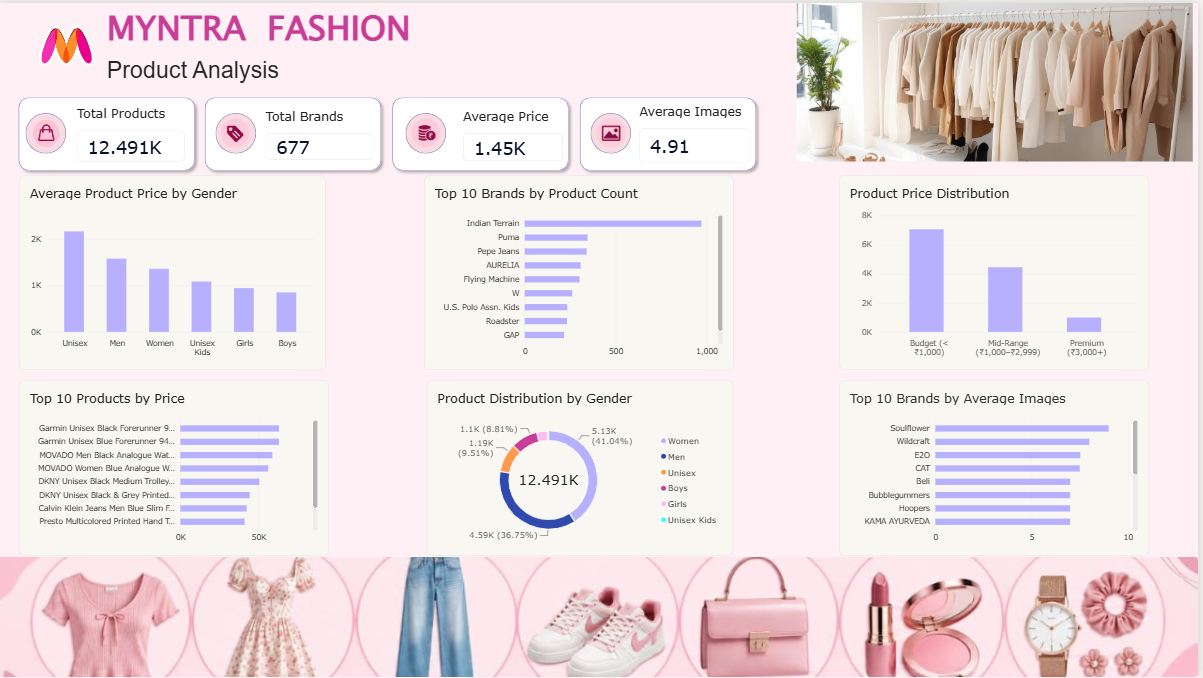

What the dashboard file says about the page in this screenshot:
{"tool":"powerbi","page":{"name":"Fashion Analysis","canvas":[1920,1080],"ordinal":1},"visuals":[{"type":"donutChart","title":"Product Distribution by Gender","fields":{"Category":["myntra_products_catalog.Gender"],"Y":["CountNonNull(myntra_products_catalog.ProductID)"]},"box":[730,627.5,490,280],"z":0},{"type":"clusteredBarChart","title":"Top 10 Brands by Product Count","fields":{"Category":["myntra_products_catalog.ProductBrand"],"Y":["CountNonNull(myntra_products_catalog.ProductID)"]},"box":[725,295,495,310],"z":1000},{"type":"clusteredColumnChart","title":"Average Product Price by Gender","fields":{"Category":["myntra_products_catalog.Gender"],"Y":["Avg(myntra_products_catalog.Price (INR))"]},"box":[35,432.5,490,310],"z":2000},{"type":"clusteredBarChart","title":"Top 10 Brands by Average Images","fields":{"Category":["myntra_products_catalog.ProductBrand"],"Y":["Avg(myntra_products_catalog.NumImages)"]},"box":[1347.5,627.5,495,280],"z":3000},{"type":"textbox","box":[173.3,0,513.3,120],"z":4000},{"type":"textbox","box":[173.3,86.7,513.3,76.7],"z":5000},{"type":"image","box":[1270,0,650,253.3],"z":6000},{"type":"shape","box":[24,142,300,135],"z":7000},{"type":"shape","box":[322.9,141.4,300,135],"z":8000},{"type":"shape","box":[622.9,141.4,300,135],"z":9000},{"type":"shape","box":[922.9,141.4,300,135],"z":10000},{"type":"shape","box":[44.3,175.7,65,65],"z":11000},{"type":"shape","box":[347.1,175.7,65,65],"z":12000},{"type":"shape","box":[652.9,175.7,65,65],"z":13000},{"type":"shape","box":[948.6,175.7,65,65],"z":14000},{"type":"cardVisual","title":"Total Products","fields":{"Data":["myntra_products_catalog.Total Products Display"]},"box":[126.7,163.3,173.3,90],"z":15000},{"type":"cardVisual","title":"Total Brands","fields":{"Data":["Count(myntra_products_catalog.ProductBrand)"]},"box":[428.3,168.3,173.3,83.3],"z":16000},{"type":"cardVisual","title":"   Average Price","fields":{"Data":["myntra_products_catalog.Average Price Display"]},"box":[725,167.5,180,85],"z":17000},{"type":"cardVisual","title":"Average Images","fields":{"Data":["Avg(myntra_products_catalog.NumImages)"]},"box":[1026.7,160,178.3,95],"z":18000},{"type":"image","box":[33.3,181.7,86.7,51.7],"z":19000},{"type":"image","box":[336.7,181.7,86.7,51.7],"z":20000},{"type":"image","box":[641.7,181.7,86.7,51.7],"z":21000},{"type":"image","box":[938.3,181.7,86.7,51.7],"z":22000},{"type":"clusteredBarChart","title":"Top 10 Products by Price","fields":{"Category":["myntra_products_catalog.ProductName"],"Y":["Sum(myntra_products_catalog.Price (INR))"]},"box":[35,767.5,495,280],"z":23000},{"type":"clusteredColumnChart","title":"Product Price Distribution","fields":{"Category":["myntra_products_catalog.Price Range"],"Y":["CountNonNull(myntra_products_catalog.ProductID)"]},"box":[1347.5,295,495,310],"z":24000},{"type":"image","box":[0,0,223.3,136.7],"z":25000},{"type":"slicer","title":"Gender","fields":{"Values":["myntra_products_catalog.Gender"]},"box":[34,296,150,90],"z":26000},{"type":"slicer","title":"Brand","fields":{"Values":["myntra_products_catalog.ProductBrand"]},"box":[208,296,150,90],"z":27000},{"type":"slicer","title":"Color","fields":{"Values":["myntra_products_catalog.PrimaryColor"]},"box":[380,296,150,90],"z":28000},{"type":"slicer","title":"Price","fields":{"Values":["myntra_products_catalog.Price (INR)"]},"box":[546,296,150,90],"z":29000},{"type":"cardVisual","title":"Top 10 Brand Concentration(%)","fields":{"Data":["myntra_products_catalog.Top 10 Brand Concentration %"]},"box":[825,25,395,112.5],"z":30000},{"type":"cardVisual","title":"Most Common Price Segment(%)","fields":{"Data":["myntra_products_catalog.Most Common Price Segment %"]},"box":[558.3,933.7,430,121.9],"z":31000},{"type":"cardVisual","title":"Leading Price Segment","fields":{"Data":["myntra_products_catalog.Most Common Price Segment"]},"box":[1004.3,943.3,433.2,112.3],"z":32000},{"type":"cardVisual","title":"Brand with Highest Avg. Images","fields":{"Data":["myntra_products_catalog.Brand with Highest Average Images"]},"box":[1456.7,943.3,439.6,112.3],"z":33000}]}

Visuals, with their boxes in screenshot pixels (x1, y1, x2, y2), scaled from the page's 1920x1080 canvas onto the 1203x678 screenshot:
"Product Distribution by Gender" donutChart: <bbox>457, 394, 764, 570</bbox>
"Top 10 Brands by Product Count" clusteredBarChart: <bbox>454, 185, 764, 380</bbox>
"Average Product Price by Gender" clusteredColumnChart: <bbox>22, 272, 329, 466</bbox>
"Top 10 Brands by Average Images" clusteredBarChart: <bbox>844, 394, 1154, 570</bbox>
textbox: <bbox>109, 0, 430, 75</bbox>
textbox: <bbox>109, 54, 430, 103</bbox>
image: <bbox>796, 0, 1202, 159</bbox>
shape: <bbox>15, 89, 203, 174</bbox>
shape: <bbox>202, 89, 390, 174</bbox>
shape: <bbox>390, 89, 578, 174</bbox>
shape: <bbox>578, 89, 766, 174</bbox>
shape: <bbox>28, 110, 68, 151</bbox>
shape: <bbox>217, 110, 258, 151</bbox>
shape: <bbox>409, 110, 450, 151</bbox>
shape: <bbox>594, 110, 635, 151</bbox>
"Total Products" cardVisual: <bbox>79, 103, 188, 159</bbox>
"Total Brands" cardVisual: <bbox>268, 106, 377, 158</bbox>
"   Average Price" cardVisual: <bbox>454, 105, 567, 159</bbox>
"Average Images" cardVisual: <bbox>643, 100, 755, 160</bbox>
image: <bbox>21, 114, 75, 147</bbox>
image: <bbox>211, 114, 265, 147</bbox>
image: <bbox>402, 114, 456, 147</bbox>
image: <bbox>588, 114, 642, 147</bbox>
"Top 10 Products by Price" clusteredBarChart: <bbox>22, 482, 332, 658</bbox>
"Product Price Distribution" clusteredColumnChart: <bbox>844, 185, 1154, 380</bbox>
image: <bbox>0, 0, 140, 86</bbox>
"Gender" slicer: <bbox>21, 186, 115, 242</bbox>
"Brand" slicer: <bbox>130, 186, 224, 242</bbox>
"Color" slicer: <bbox>238, 186, 332, 242</bbox>
"Price" slicer: <bbox>342, 186, 436, 242</bbox>
"Top 10 Brand Concentration(%)" cardVisual: <bbox>517, 16, 764, 86</bbox>
"Most Common Price Segment(%)" cardVisual: <bbox>350, 586, 619, 663</bbox>
"Leading Price Segment" cardVisual: <bbox>629, 592, 901, 663</bbox>
"Brand with Highest Avg. Images" cardVisual: <bbox>913, 592, 1188, 663</bbox>
